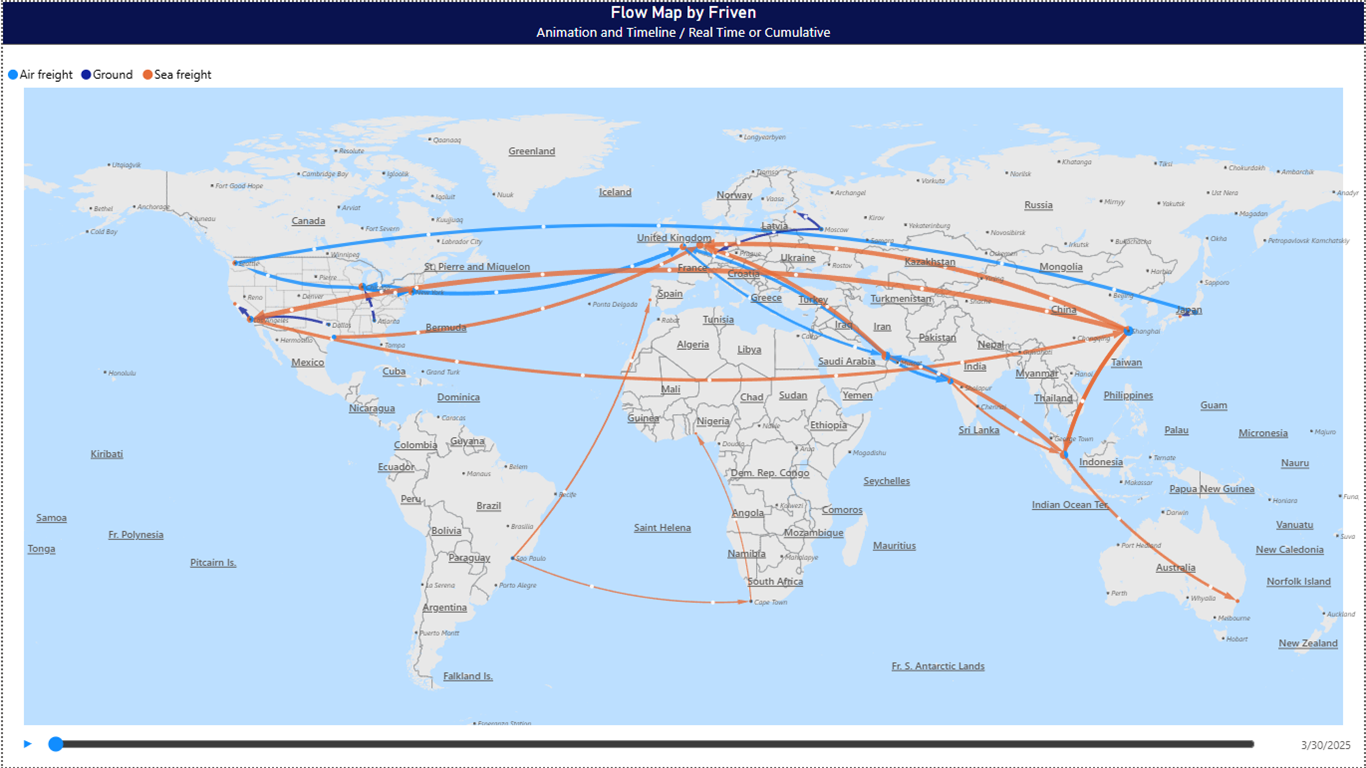

Layout of this report page (visuals, bound fields, positions):
{"tool":"powerbi","page":{"name":"Animation and Timeline","canvas":[1280,720],"ordinal":1},"visuals":[{"type":"flowMap094E8B8E0C644C80B88BA54992D66F39","title":"Flow Map by Friven","fields":{"origin":["sample-data.Origin"],"originLatitude":["sample-data.OriginLat"],"originLongitude":["sample-data.OriginLon"],"originSize":["Sum(sample-data.OriginShipments)"],"destination":["sample-data.Destination"],"destLatitude":["sample-data.DestLat"],"destLongitude":["sample-data.DestLon"],"destinationSize":["Sum(sample-data.DestShipments)"],"value":["Sum(sample-data.ArrowThickness)"],"legend":["sample-data.Category"],"routeId":["sample-data.RouteID"],"legOrder":["sample-data.LegOrder"],"time":["sample-data.Date"],"endTime":["sample-data.EndDate"]},"box":[0,0,1280,719.8],"z":0}]}

Visuals, with their boxes in screenshot pixels (x1, y1, x2, y2), scaled from the page's 1280x720 canvas onto the 1366x768 screenshot:
"Flow Map by Friven" flowMap094E8B8E0C644C80B88BA54992D66F39: <region>0, 0, 1365, 767</region>
